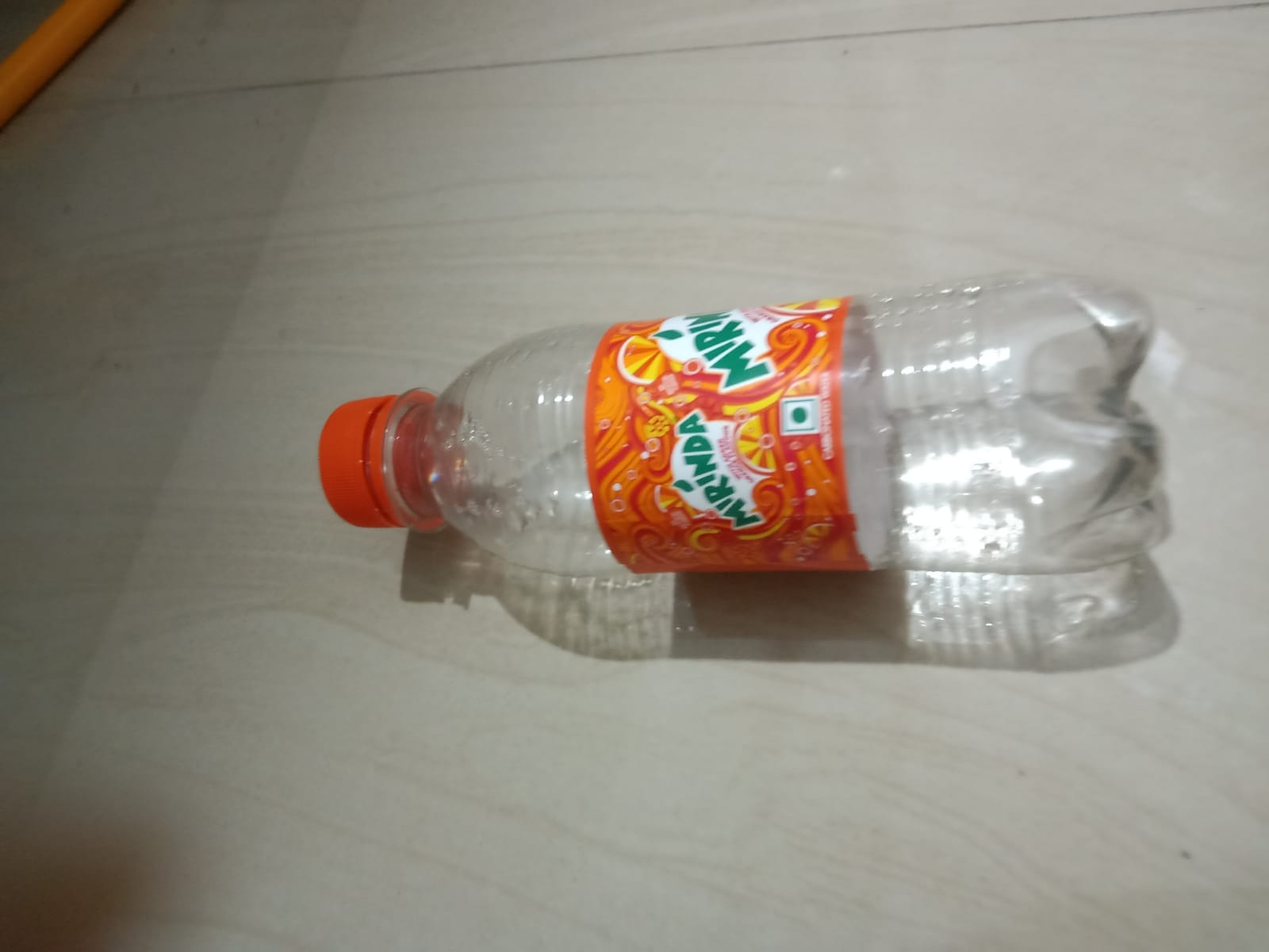plastic: (232, 300, 1269, 598)
